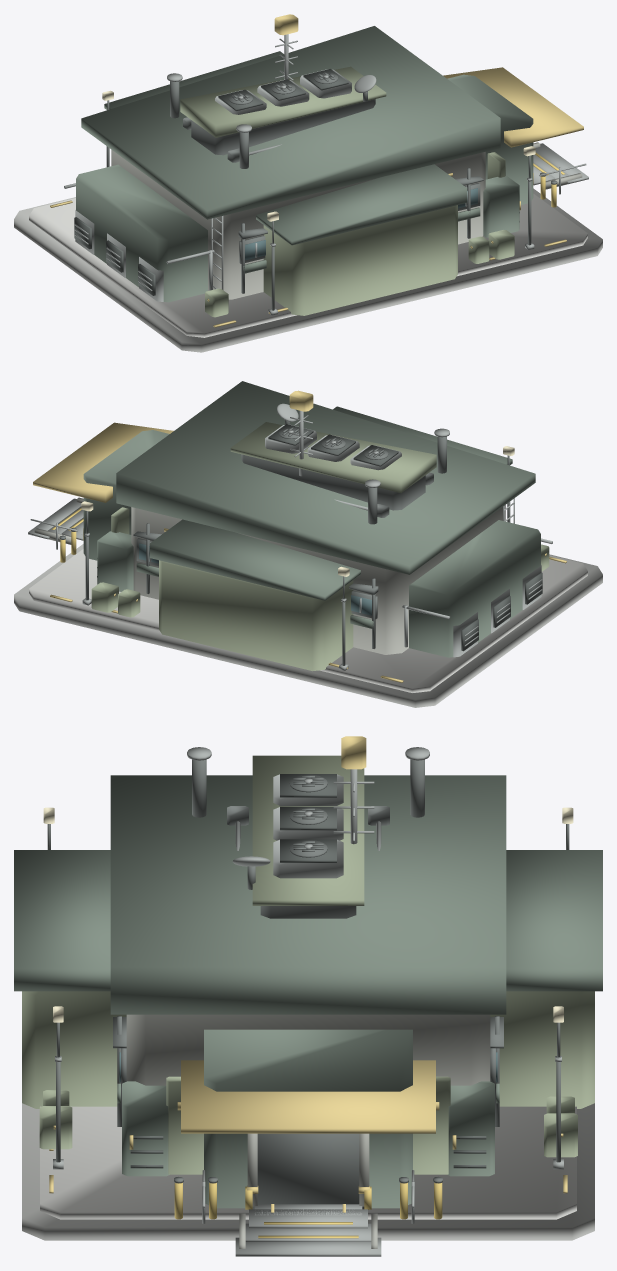
Rendered from aegis_field_barracks_v023.glb.
3 renders of one model, top to bottom at view 1: azimuth 30°, elevation 25°; view 2: azimuth 150°, elevation 25°; view 3: azimuth 270°, elevation 25°, orthographic. The views are drawn at different scales.
Visible parts, largest first — view 1: main_roof_armor, south_wing, rear_service_mass, foundation_upper, foundation_lower, wing_roof_5.0, main_bunker, roof_spine_cap, deployment_canopy, front_entry_mass, roof_spine, kit_locker_1 (+8 smaller); view 2: main_roof_armor, north_wing, rear_service_mass, foundation_upper, foundation_lower, wing_roof_-5.0, main_bunker, roof_spine_cap, deployment_canopy, front_entry_mass, roof_spine, kit_locker_0 (+9 smaller); view 3: main_roof_armor, foundation_upper, front_entry_mass, wing_roof_-5.0, wing_roof_5.0, foundation_lower, main_bunker, deployment_canopy, north_wing, south_wing, roof_spine_cap, entry_frame_outer (+20 smaller).
Boxes of the visible parts, x1,y1,x2,y2 form: main_roof_armor: (81,26,500,219); south_wing: (263,205,457,315); rear_service_mass: (76,164,207,302); foundation_upper: (29,193,587,337); foundation_lower: (14,188,602,352); wing_roof_5.0: (256,164,467,245); main_bunker: (111,149,485,299); roof_spine_cap: (180,66,386,137); deployment_canopy: (443,67,583,147); front_entry_mass: (447,74,533,204); roof_spine: (191,99,375,155); kit_locker_1: (483,176,519,237); main_roof_armor: (116,381,535,574); north_wing: (159,560,353,671); rear_service_mass: (409,520,540,657); foundation_upper: (29,549,587,692); foundation_lower: (14,544,602,707); wing_roof_-5.0: (149,519,360,600); main_bunker: (131,505,505,654); roof_spine_cap: (230,422,436,492); deployment_canopy: (33,422,173,502); front_entry_mass: (83,430,169,560); roof_spine: (241,454,425,510); kit_locker_0: (97,531,133,591); main_roof_armor: (110,775,506,1014); foundation_upper: (40,1106,576,1219); front_entry_mass: (204,1029,412,1208); wing_roof_-5.0: (506,850,602,991); wing_roof_5.0: (14,850,110,991); foundation_lower: (22,1103,594,1240); main_bunker: (126,1014,490,1085); deployment_canopy: (181,1060,435,1133); north_wing: (490,991,594,1108); south_wing: (22,991,126,1108); roof_spine_cap: (252,755,364,905); entry_frame_outer: (248,1133,368,1209).
Size of the model in its own units: 18.67 by 8.01 by 12.95.
